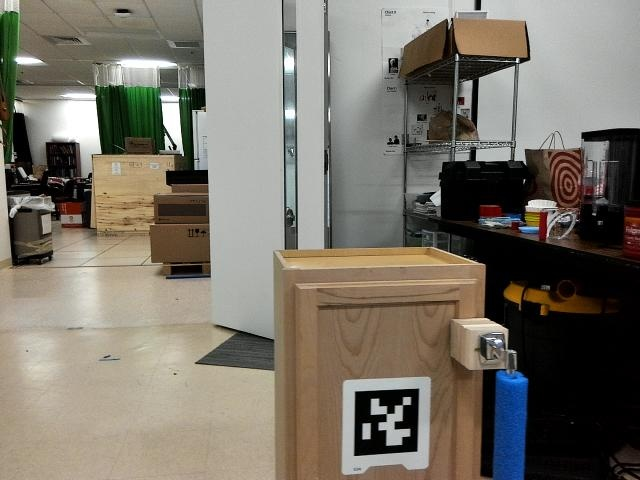noodle_handle: (483, 353, 548, 480)
